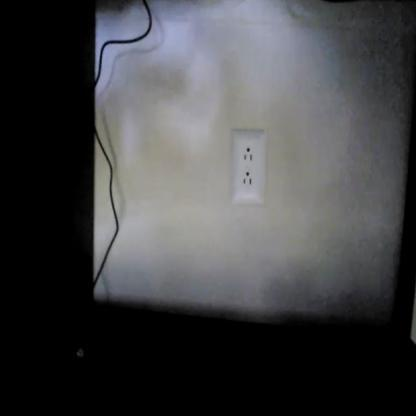OUTLET: (230, 132, 266, 206)
